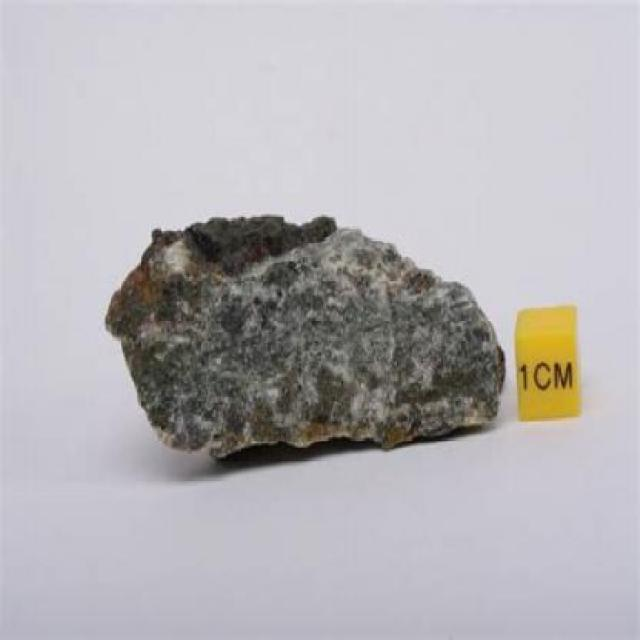rock: (102, 206, 509, 466)
